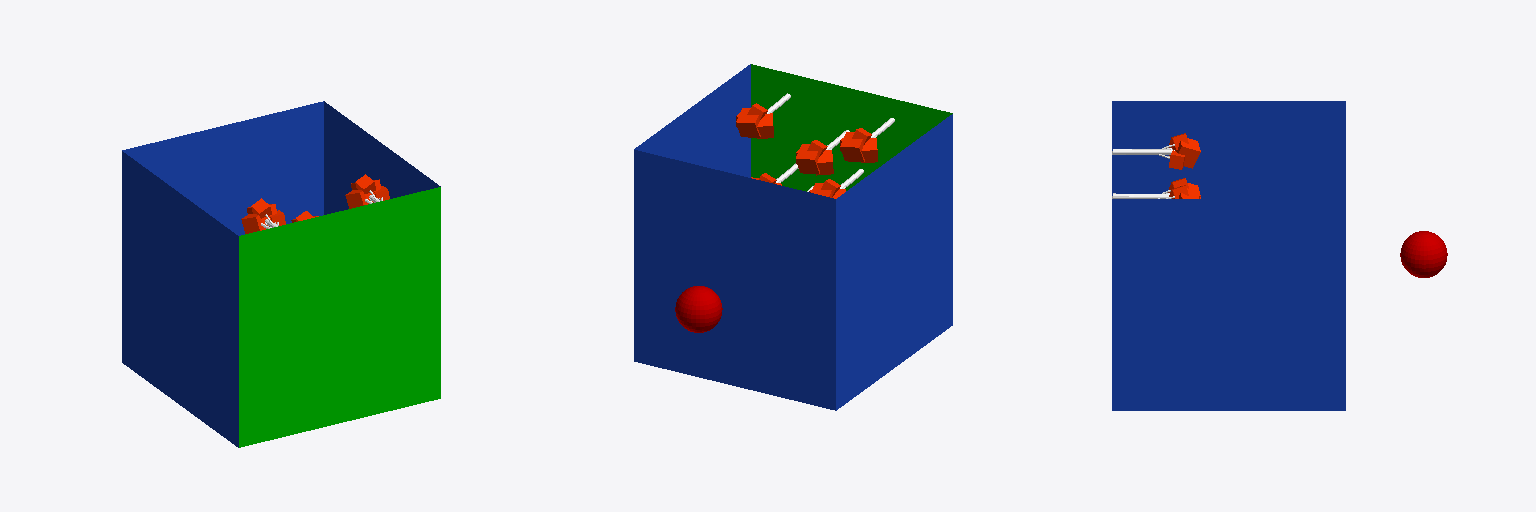
Rendered from forest.obj.
The picture shows the model from 3 angles: view 1: azimuth 30°, elevation 25°; view 2: azimuth 150°, elevation 25°; view 3: azimuth 270°, elevation 25°; orthographic projection.
Visible parts, largest first — view 1: Cube, tree.002_group[number redacted].002, tree_group[number redacted]; view 2: Cube, Sphere, tree_group[number redacted], tree.002_group[number redacted].002, tree.001_group[number redacted].001, tree.007_group[number redacted].007; view 3: Cube, Sphere, tree.002_group[number redacted].002, tree.001_group[number redacted].001.
Part boxes in pixels (x1,y1,x2,y2): Cube: (122, 101, 440, 447); tree.002_group[number redacted].002: (241, 198, 285, 233); tree_group[number redacted]: (345, 174, 389, 208); Cube: (634, 64, 952, 410); Sphere: (675, 286, 722, 332); tree_group[number redacted]: (736, 93, 790, 138); tree.002_group[number redacted].002: (840, 118, 894, 162); tree.001_group[number redacted].001: (796, 130, 849, 175); tree.007_group[number redacted].007: (809, 169, 863, 198); Cube: (1112, 101, 1345, 410); Sphere: (1400, 231, 1447, 277); tree.002_group[number redacted].002: (1112, 133, 1200, 169); tree.001_group[number redacted].001: (1112, 178, 1200, 198).
Bounding box in the file's own units: 2 × 2 × 2.87.